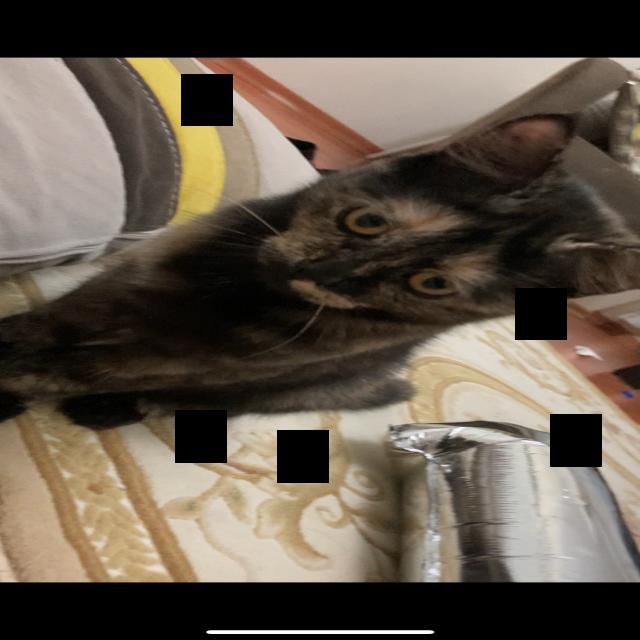authorized: (1, 111, 638, 432)
